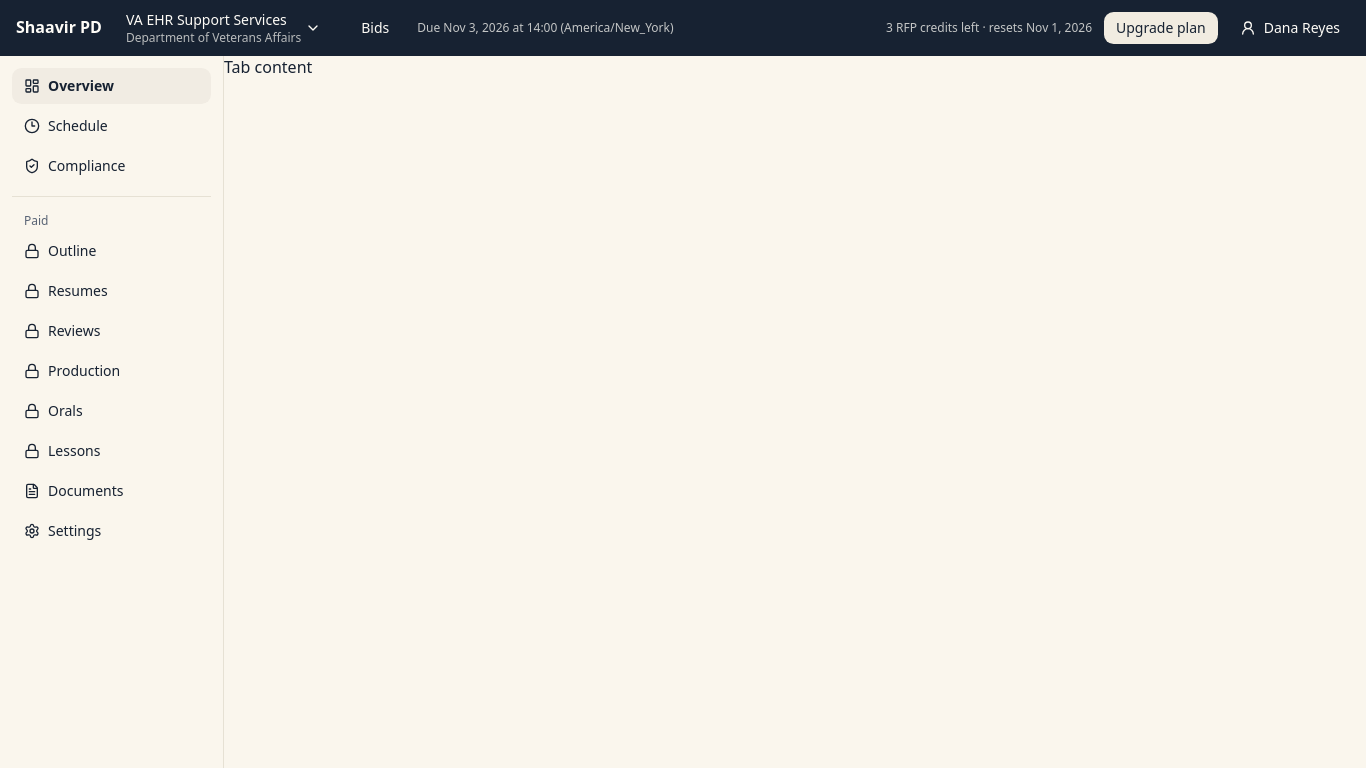
shell › opens Account, Privacy and Sign out from the account menu
The width and height of the screenshot is (1366, 768).
Later steps or results of the test are not shown.
Click the button with aria-label "Account menu for Dana Reyes" at (1290, 28), box [1230,12,1350,44]
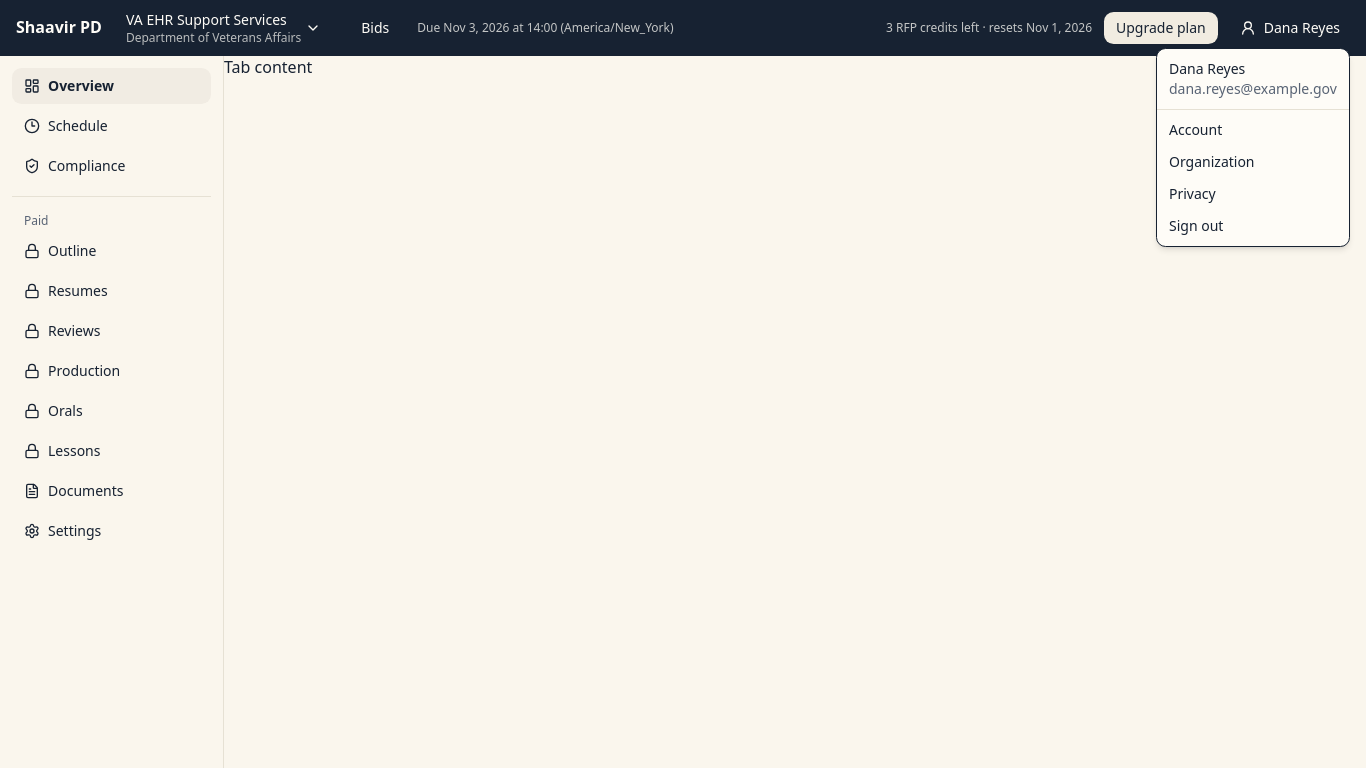
Now the text "dana.reyes@example.gov" is shown, box [1169,79,1337,98]
